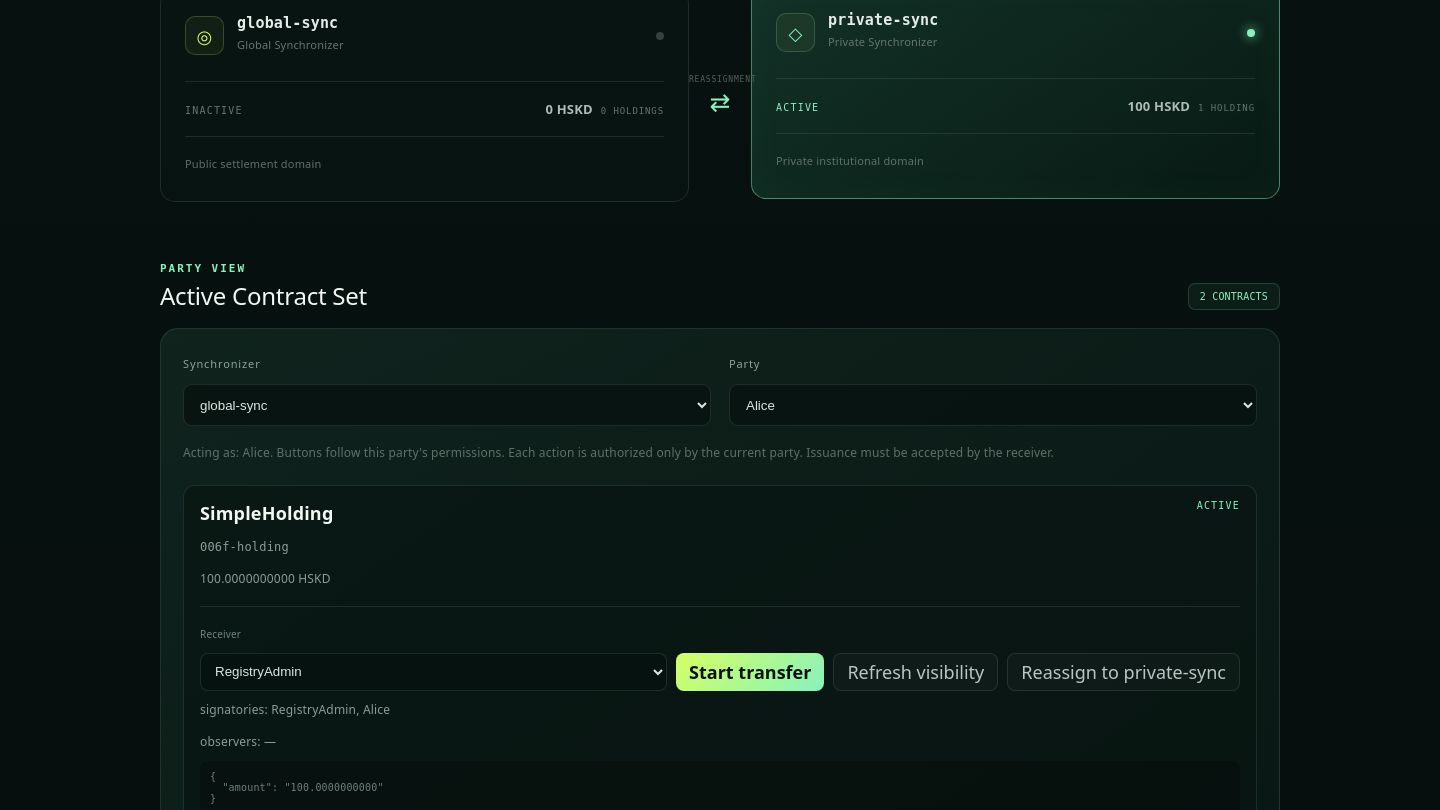
Scenario: CIP-56 dashboard › switches synchronizer then party and shows that ACS
The width and height of the screenshot is (1440, 810).
(page scrolled)
Expected: the text "SimpleHolding" is shown, 200,500 -> 334,526
Select "private-sync" in the dropdown labelled "Synchronizer" at x=447, y=406, box 183,384 -> 711,426
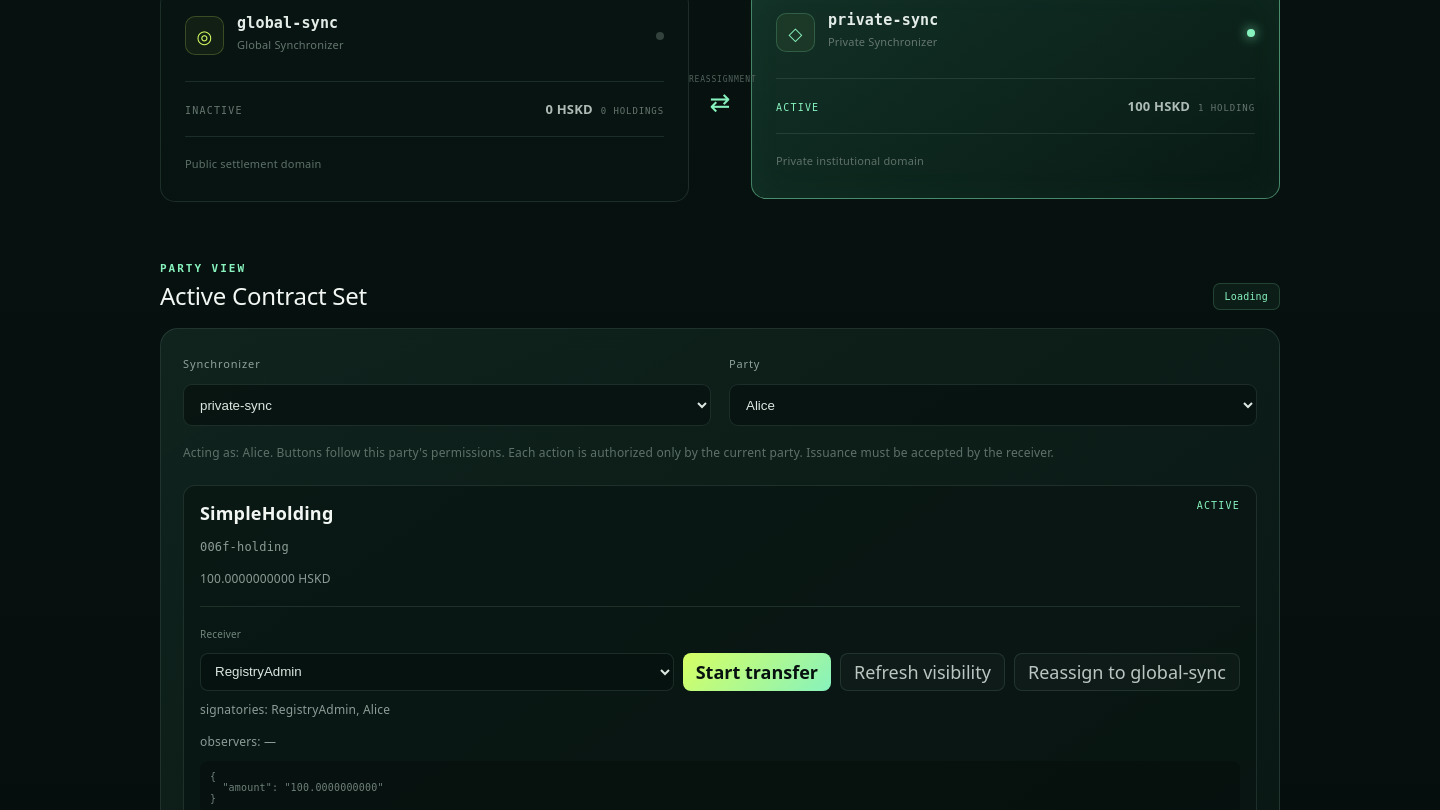
Select "Bob" in the dropdown labelled "Party" at x=993, y=406, box 729,384 -> 1257,426
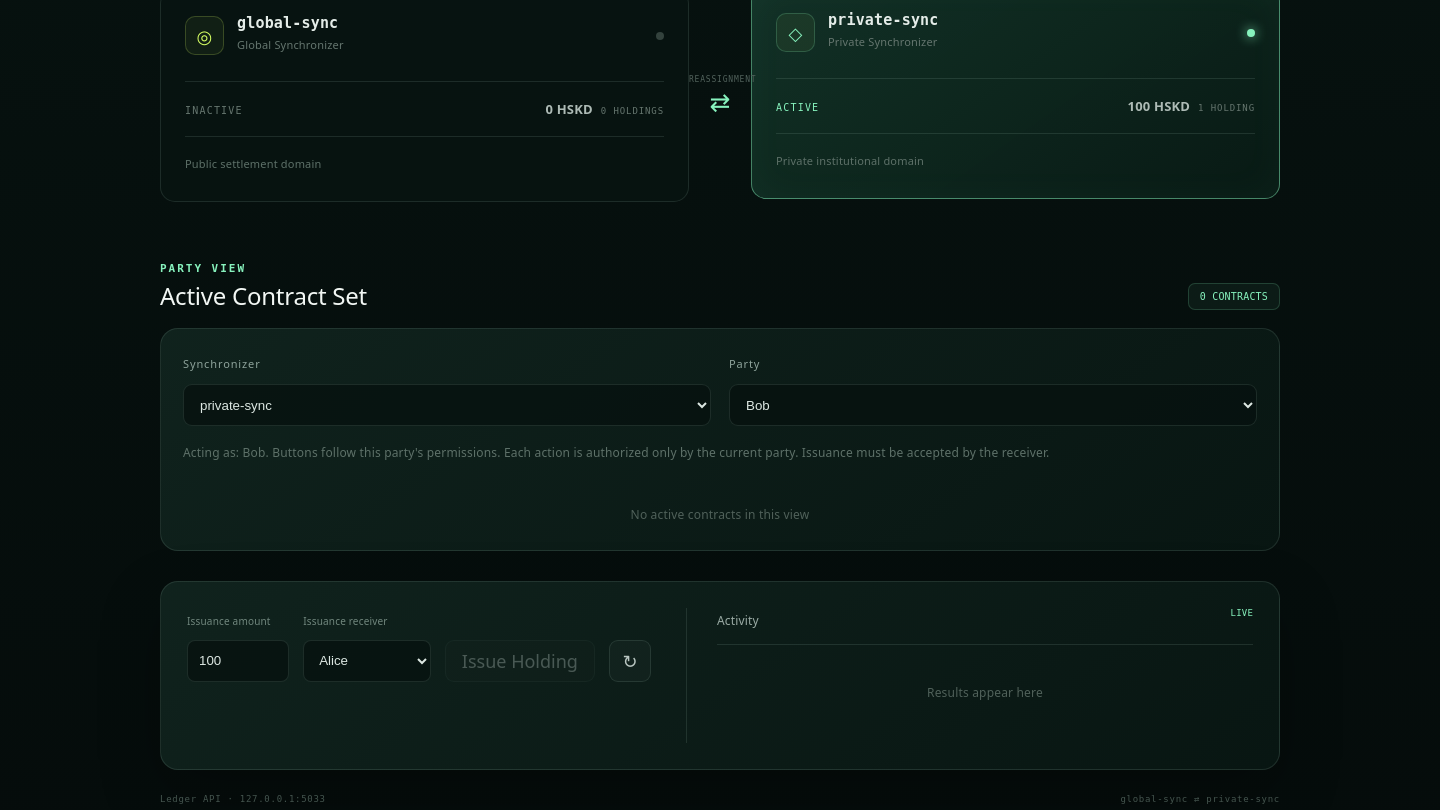
Result: the text "No active contracts in this view" is shown at 631,506 -> 809,523
Result: the button "Reassign to global-sync" is gone
